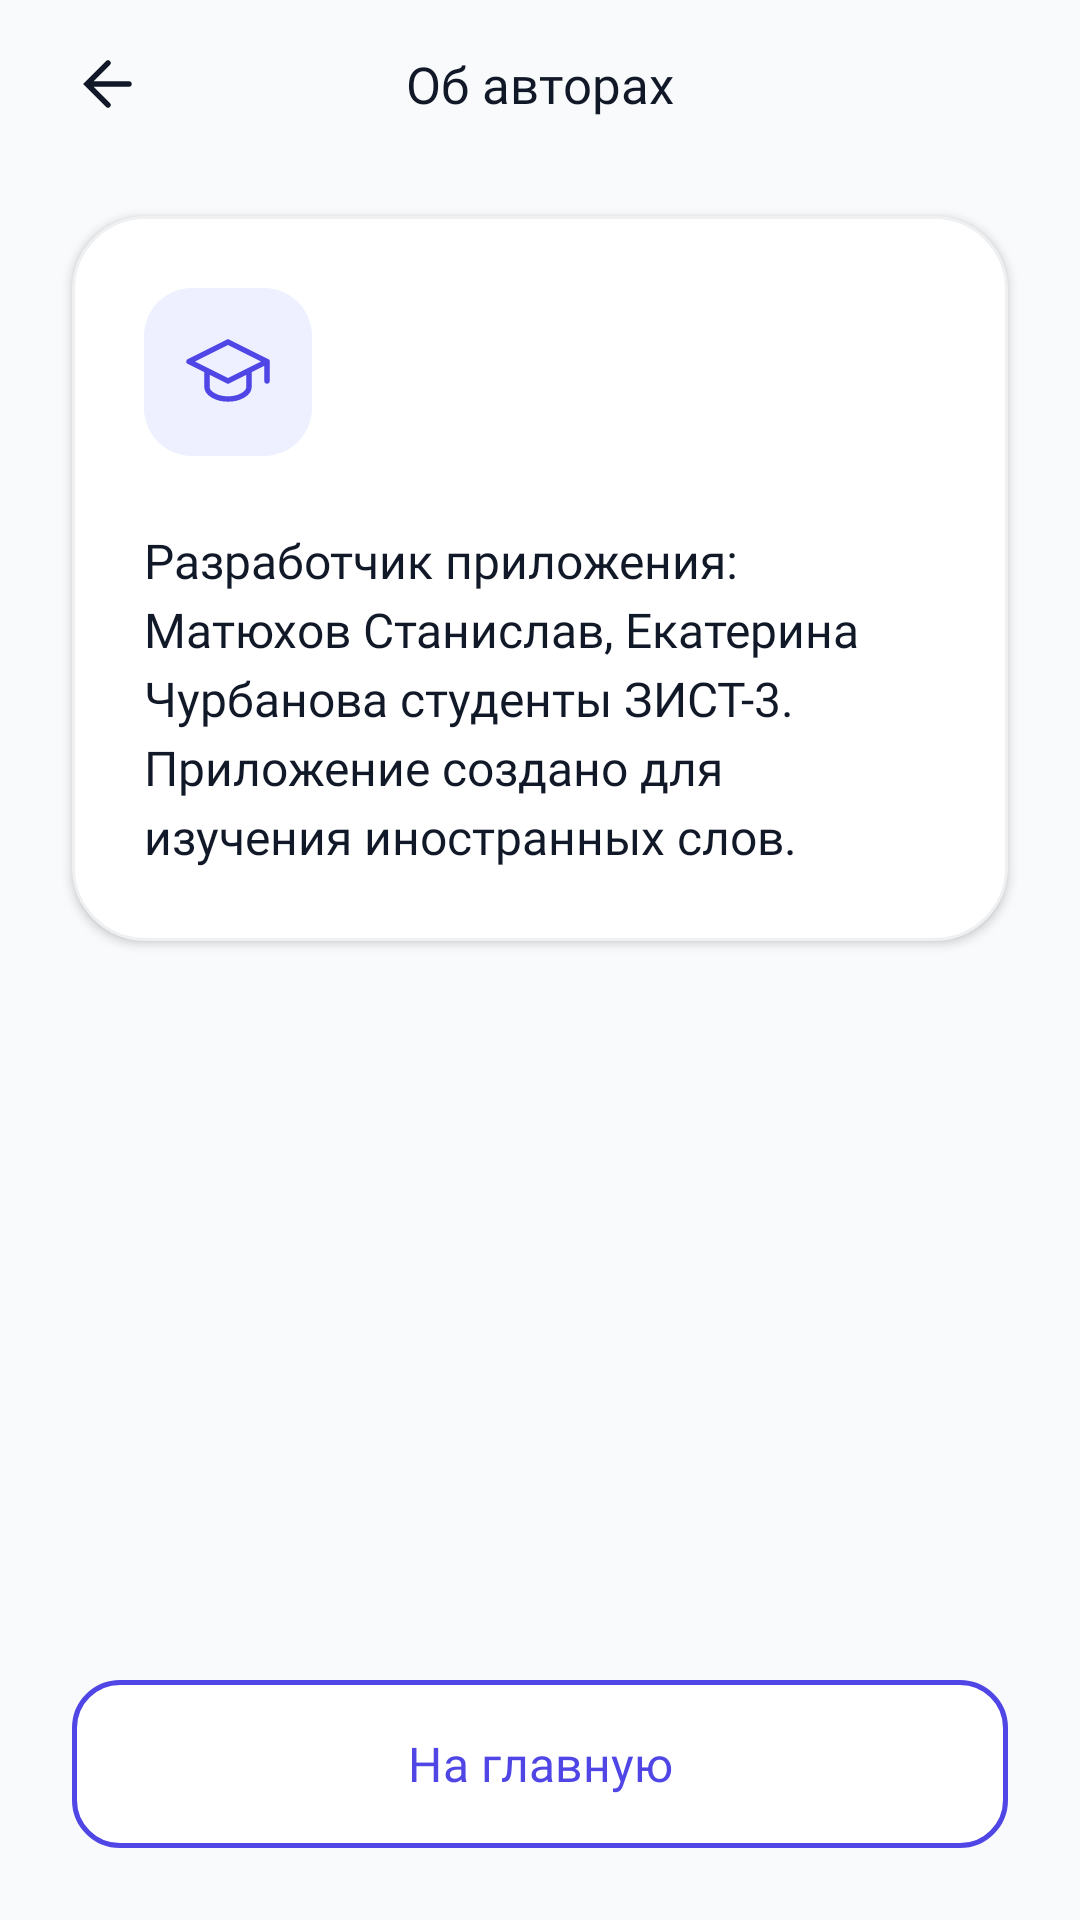

Screen size 1080×1920. Icon name, then its box in pixels as (x1, y1, x2, y2):
graduation: (144, 288, 312, 456)
Назад: (83, 60, 132, 108)
